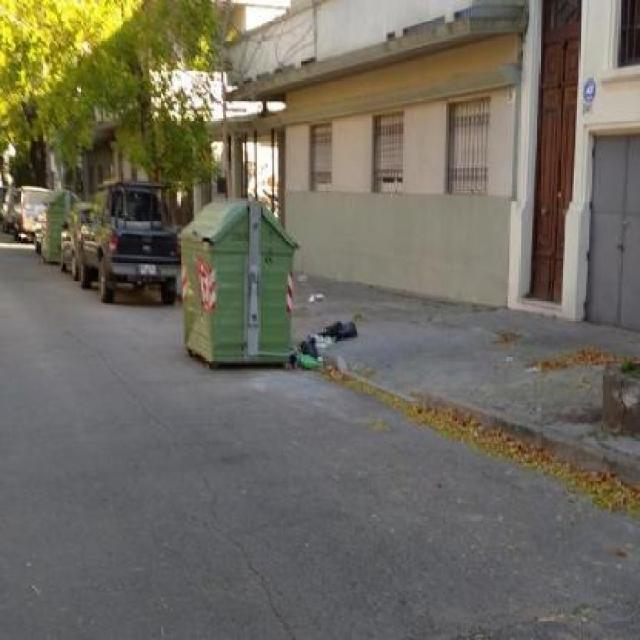garbage: (285, 314, 328, 383), (320, 312, 358, 346), (308, 285, 330, 306)
